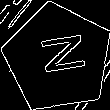N_W: (30, 34, 86, 82)
